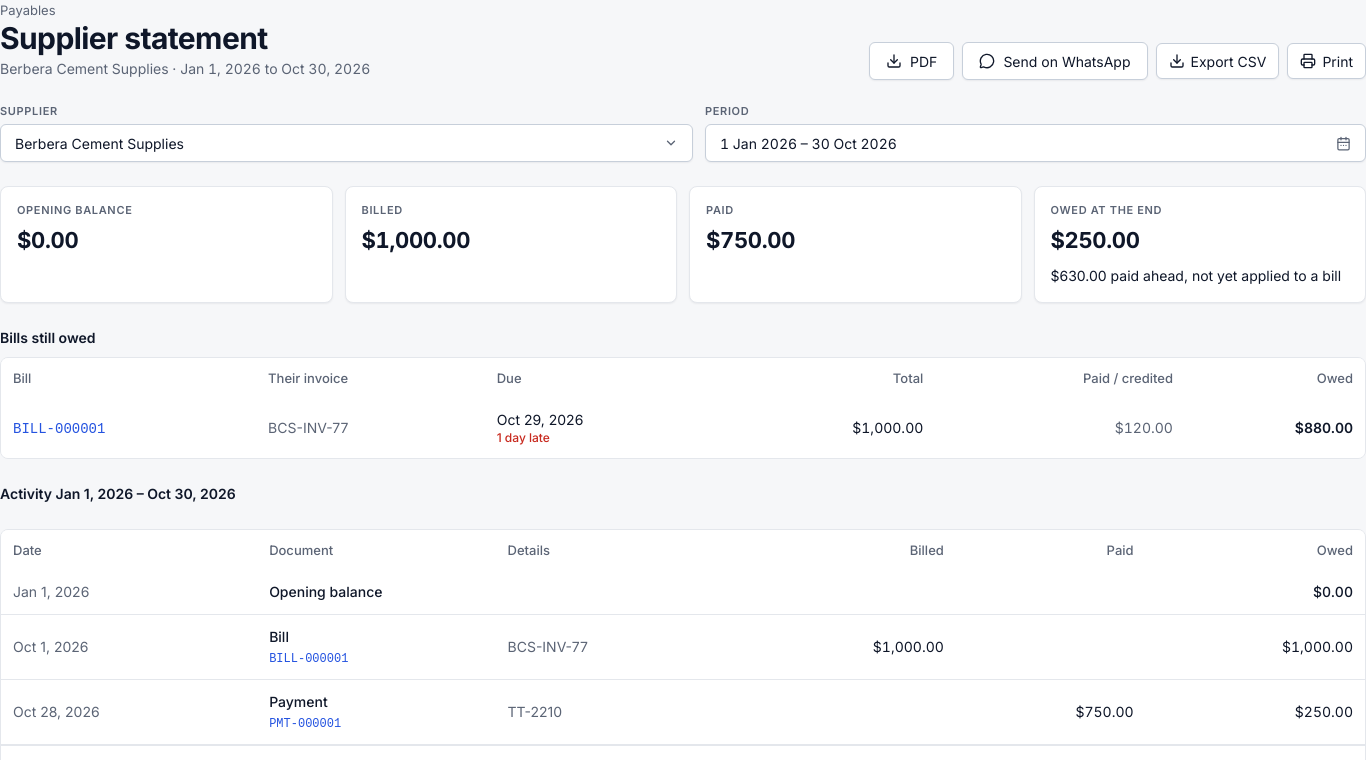
SupplierStatement (SS) › downloads the branded PDF and opens the WhatsApp send for the supplier
The width and height of the screenshot is (1366, 760).
Step 1. Click the button "PDF" → (912, 61), box top-left (869, 42), bottom-right (954, 80)
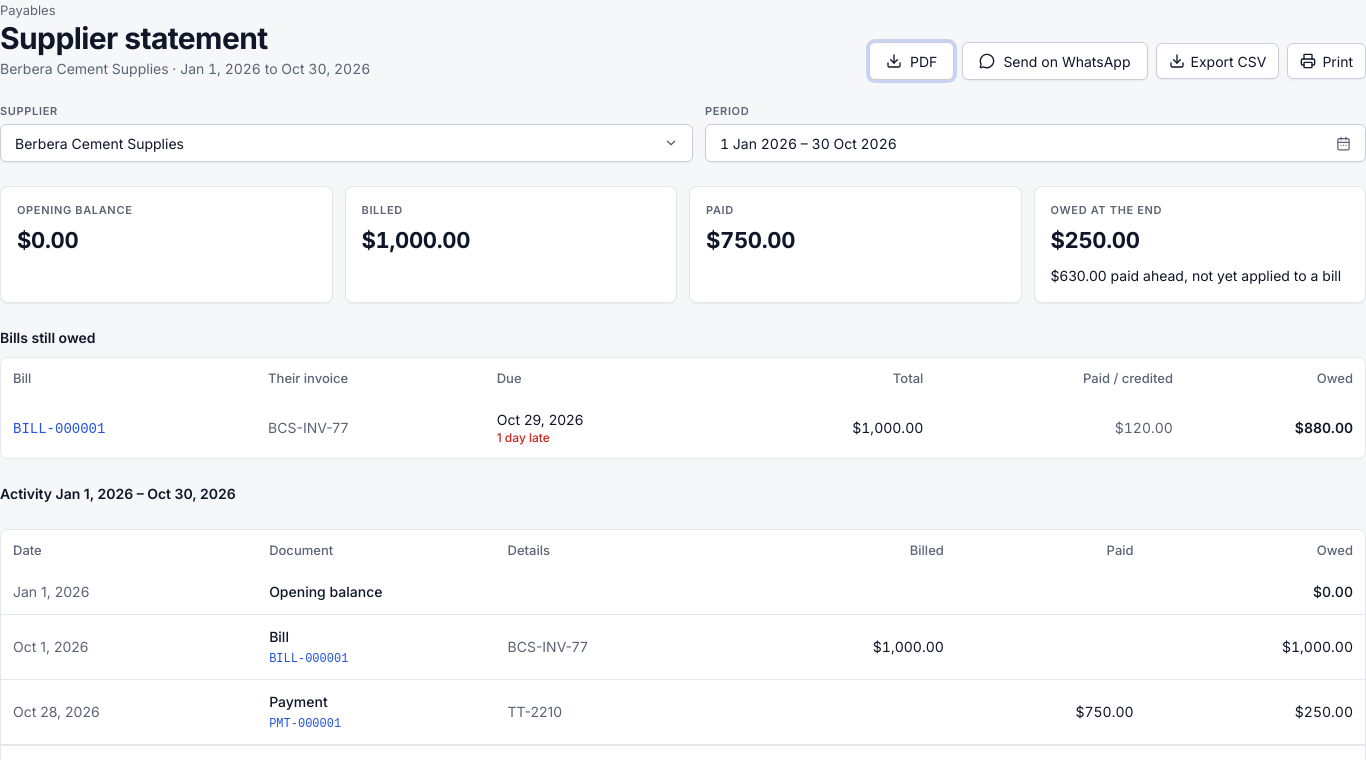
Step 2. Click the button "Send on WhatsApp" → (1055, 61), box top-left (962, 42), bottom-right (1148, 80)
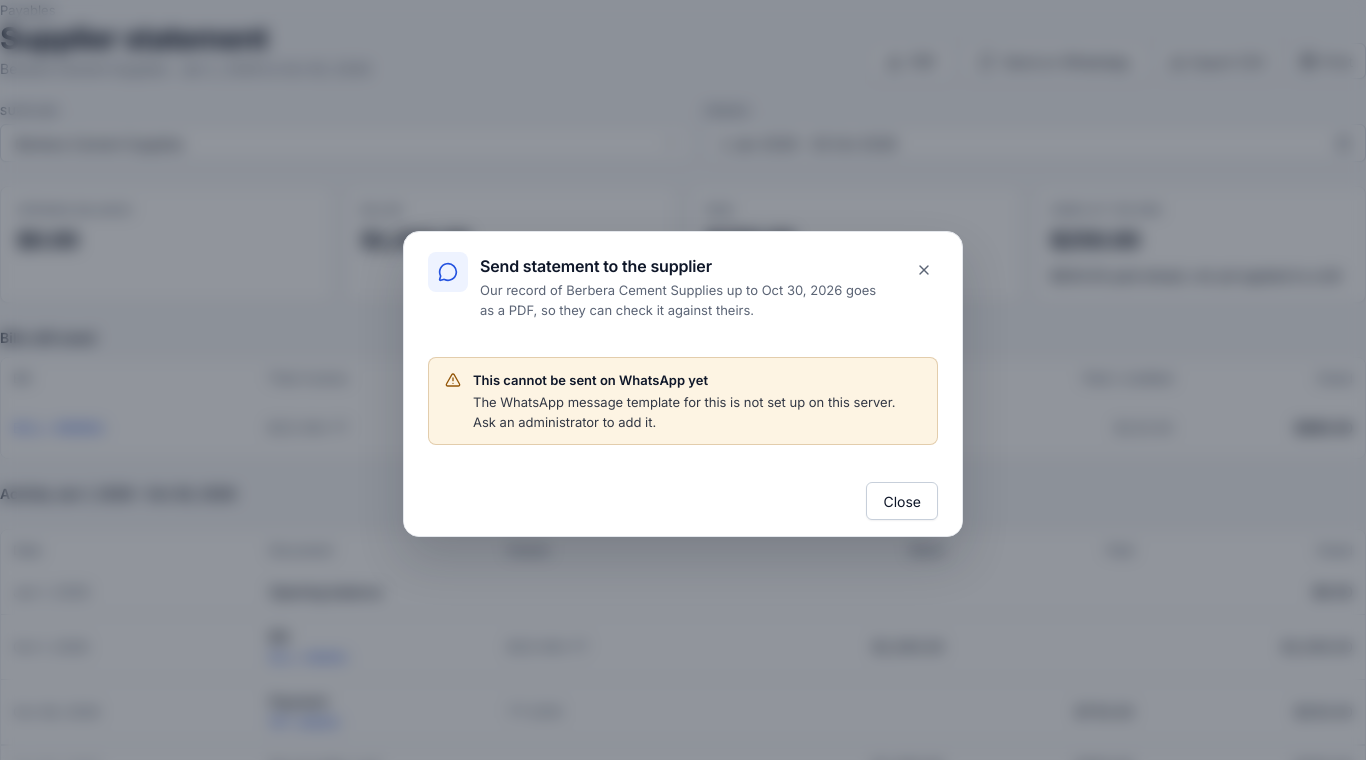
Expected: the heading "Send statement to the supplier" is shown, top-left (480, 256), bottom-right (712, 276)
